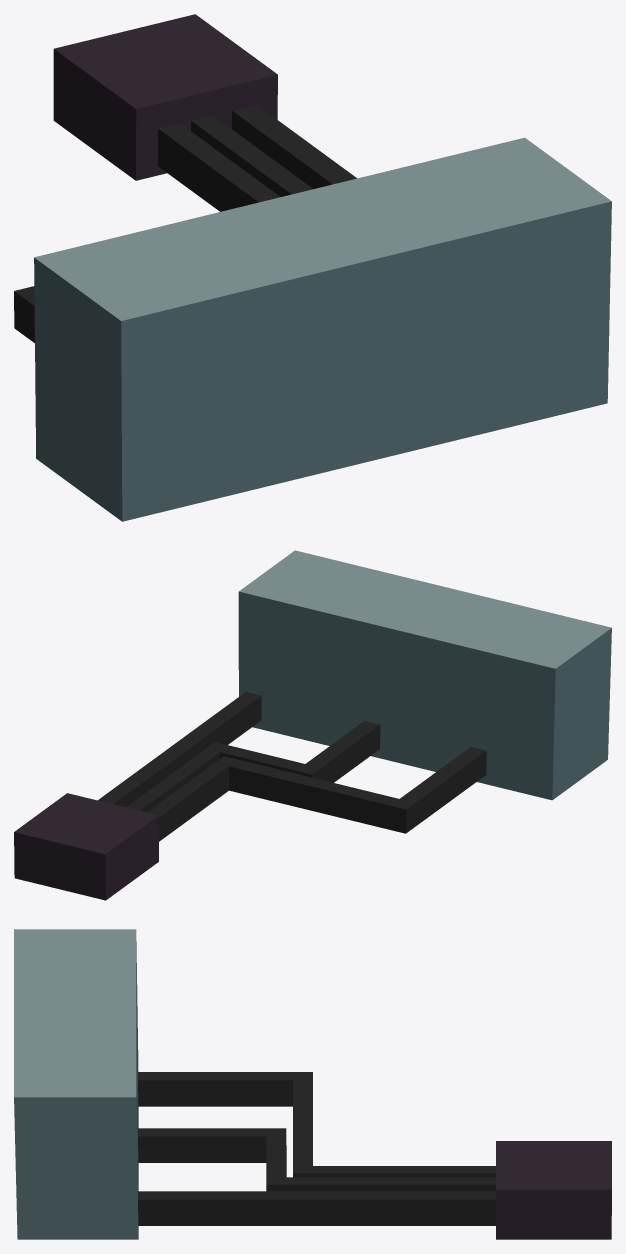
File: Building_RoofPart02.fbx
3 views of the same model, one above another, from view 1: azimuth 30°, elevation 25°; view 2: azimuth 150°, elevation 25°; view 3: azimuth 270°, elevation 25° (orthographic). The views are drawn at different scales.
Visible parts, largest first — view 1: Building_roofpart02; view 2: Building_roofpart02; view 3: Building_roofpart02.
Boxes of the visible parts, x1,y1,x2,y2 form: Building_roofpart02: (14,14,611,521); Building_roofpart02: (14,550,611,900); Building_roofpart02: (14,929,611,1239).
Size of the model in its own units: 194 by 75.52 by 287.
